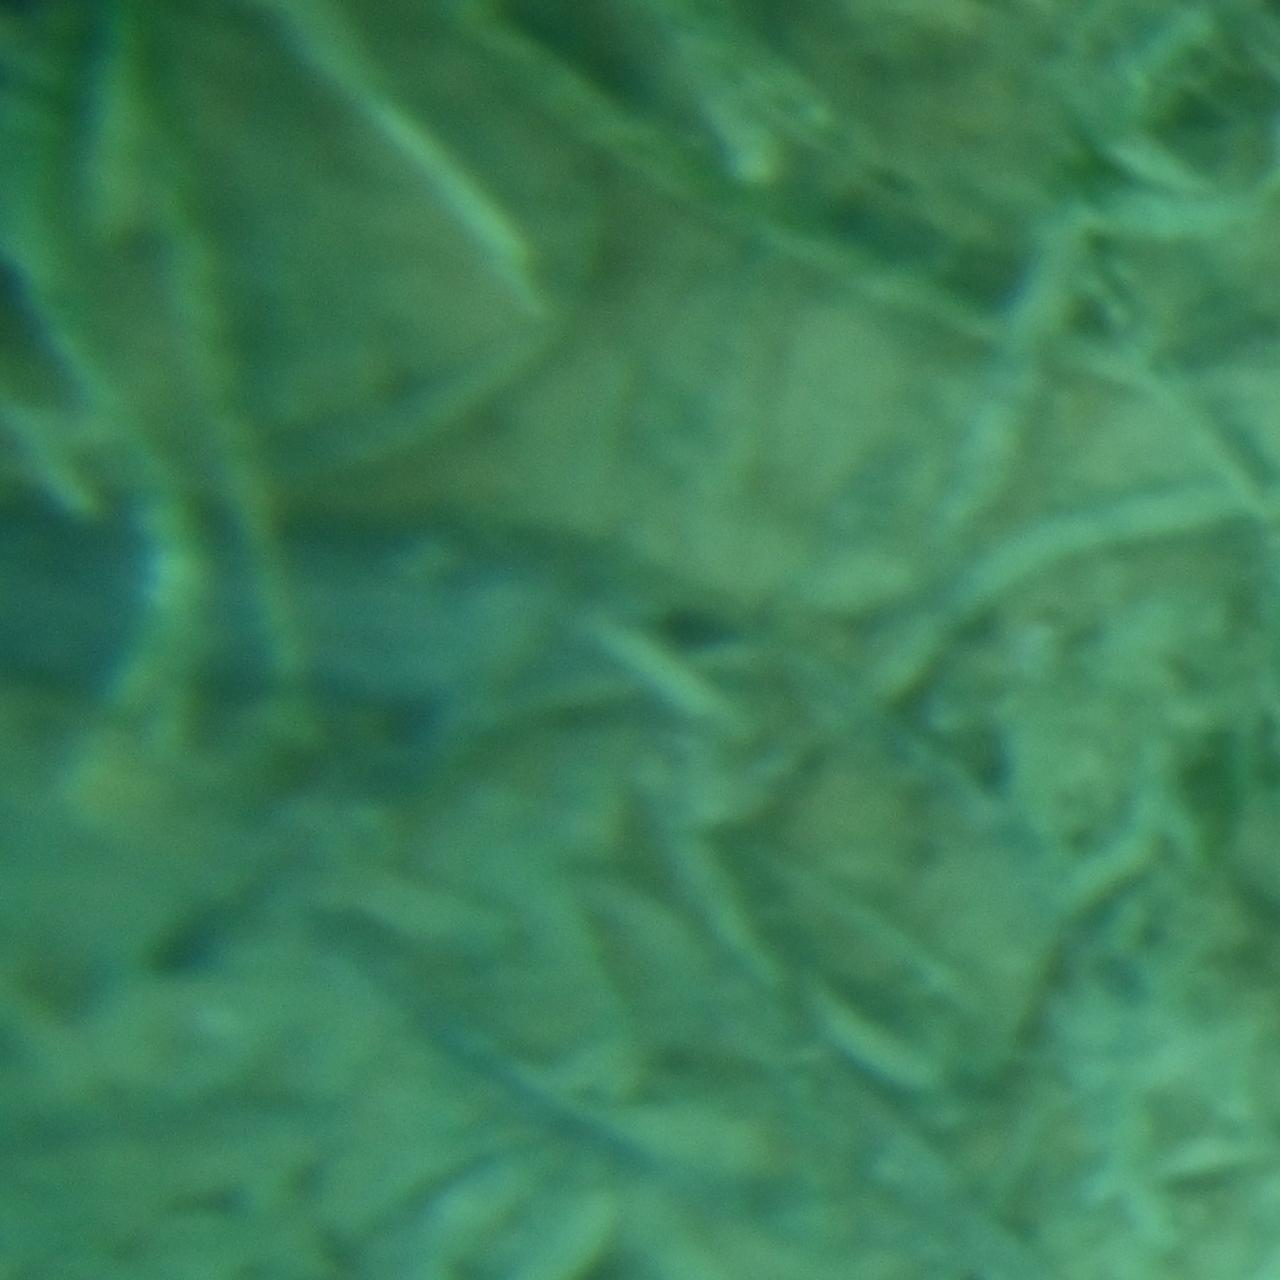Holothuria tubulosa: (0, 517, 736, 763)
